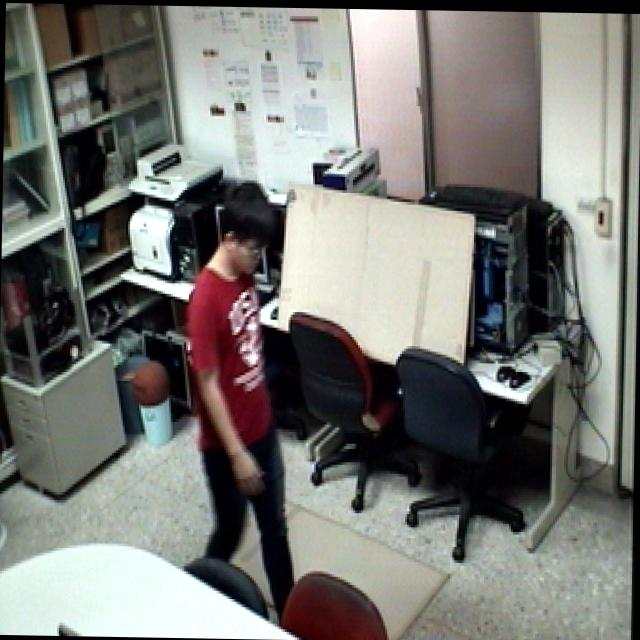stand: (171, 176, 306, 612)
